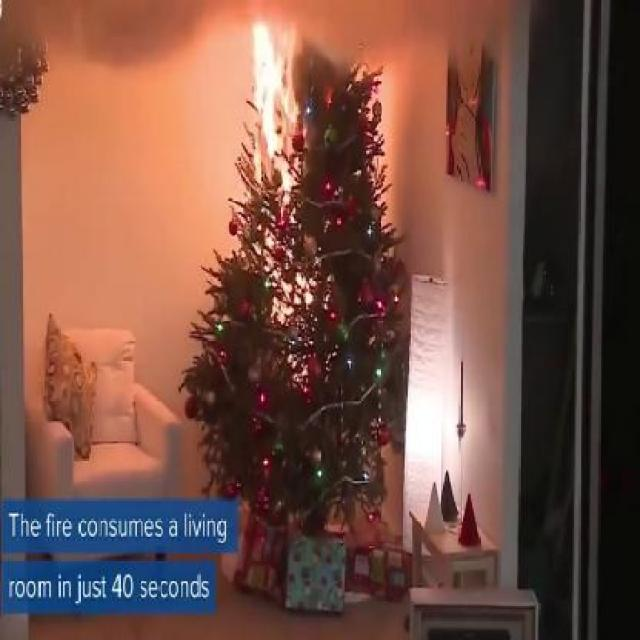fire: (246, 32, 294, 211)
smoke: (292, 4, 528, 66), (0, 0, 232, 61)
